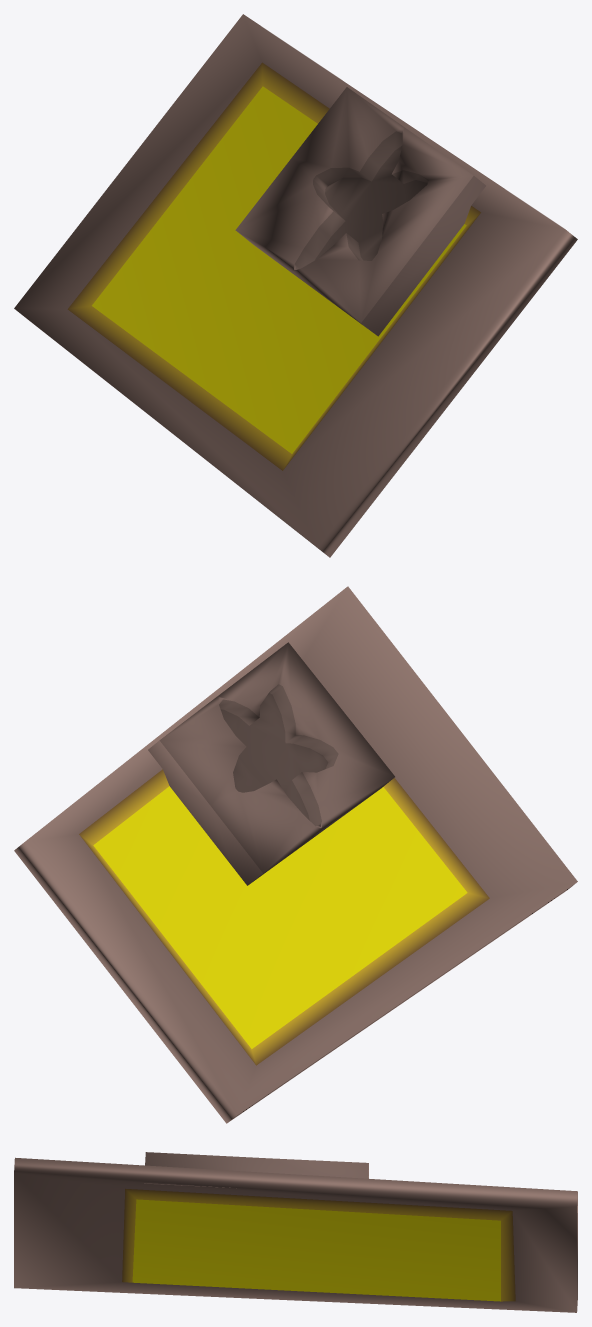
The model's file is LighthouseUpperDoorLightOn.fbx.
3 views of the same model, one above another, from view 1: azimuth 30°, elevation 25°; view 2: azimuth 150°, elevation 25°; view 3: azimuth 270°, elevation 25° (orthographic). The views are drawn at different scales.
Visible parts, largest first — view 1: LighthouseUpperDoorLightOn; view 2: LighthouseUpperDoorLightOn; view 3: LighthouseUpperDoorLightOn.
Part boxes in pixels (left/top/right/bottom): LighthouseUpperDoorLightOn: left=14, top=14, right=577, bottom=557; LighthouseUpperDoorLightOn: left=14, top=586, right=577, bottom=1123; LighthouseUpperDoorLightOn: left=14, top=1152, right=577, bottom=1312.
Bounding box in the file's own units: 74.25 × 73.98 × 158.
